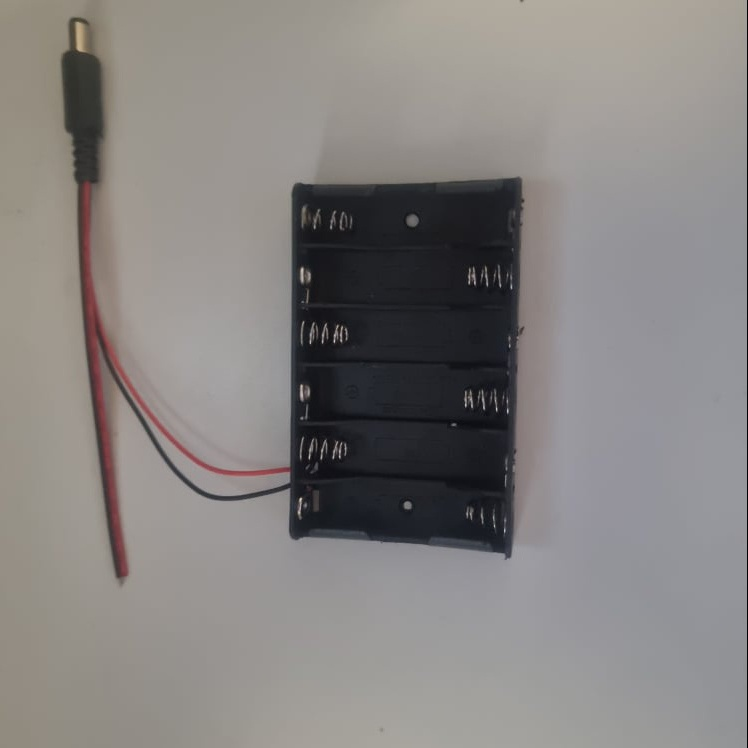BATTERY BOX: (290, 175, 526, 560)
